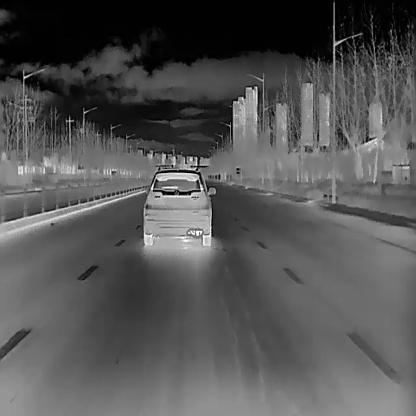car: (143, 168, 215, 245)
